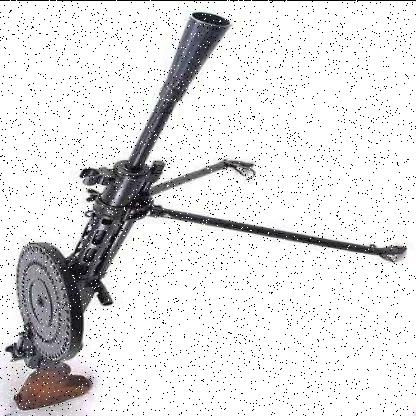rifle: (2, 7, 245, 409)
